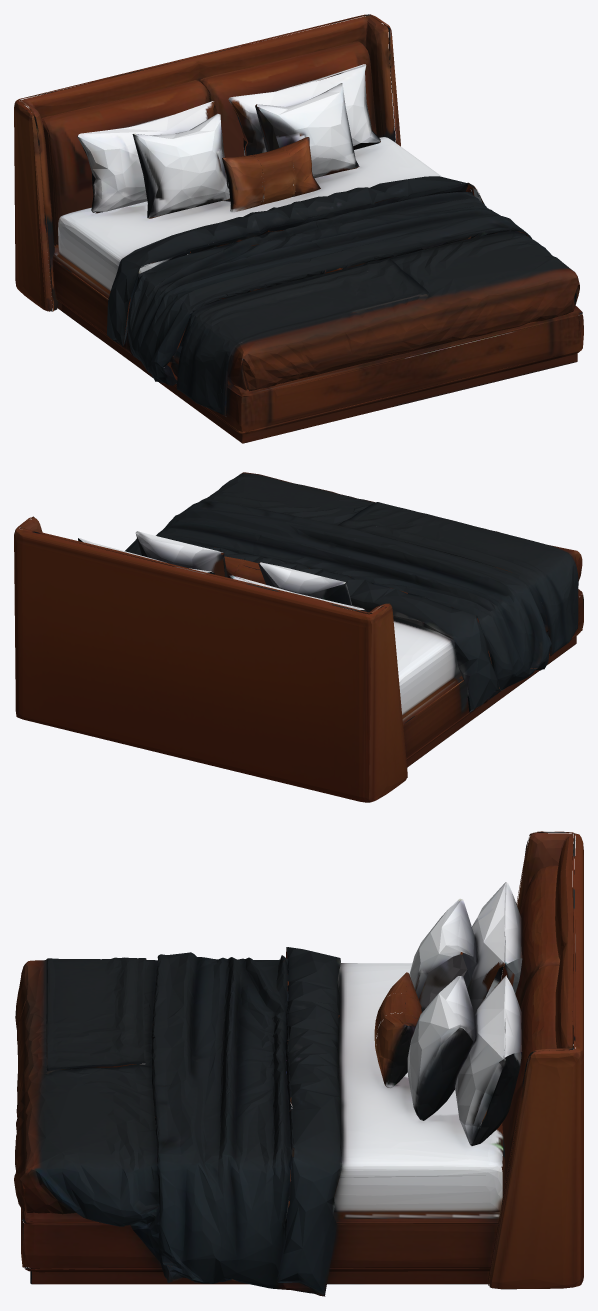
Rendered from edited_mesh.glb.
The picture shows the model from 3 angles, top to bottom: view 1: azimuth 30°, elevation 25°; view 2: azimuth 150°, elevation 25°; view 3: azimuth 270°, elevation 25°; orthographic projection. The views are drawn at different scales.
Parts seen in each view (by area): view 1: solid_001_wire; view 2: solid_001_wire; view 3: solid_001_wire.
Part boxes in pixels (left/top/right/bottom): solid_001_wire: left=14, top=14, right=583, bottom=443; solid_001_wire: left=14, top=472, right=583, bottom=802; solid_001_wire: left=14, top=831, right=583, bottom=1296.
Bounding box in the file's own units: 2 × 0.9449 × 1.97.
1 material, 1 textured.
